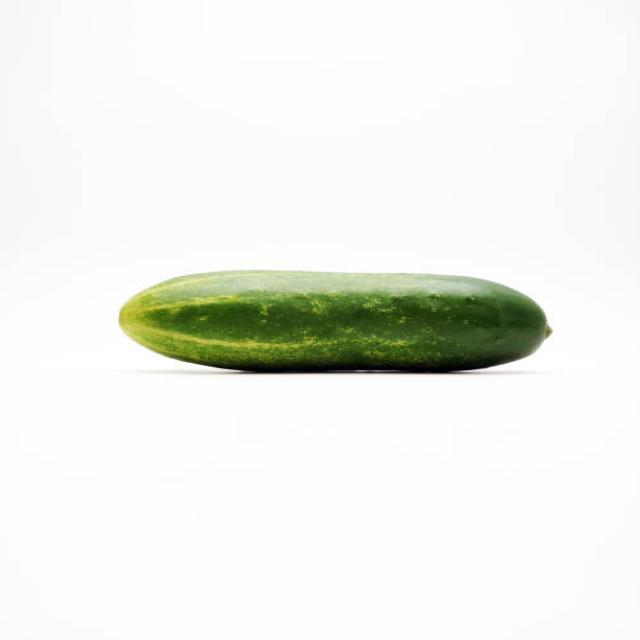cucumber: (116, 267, 547, 372)
